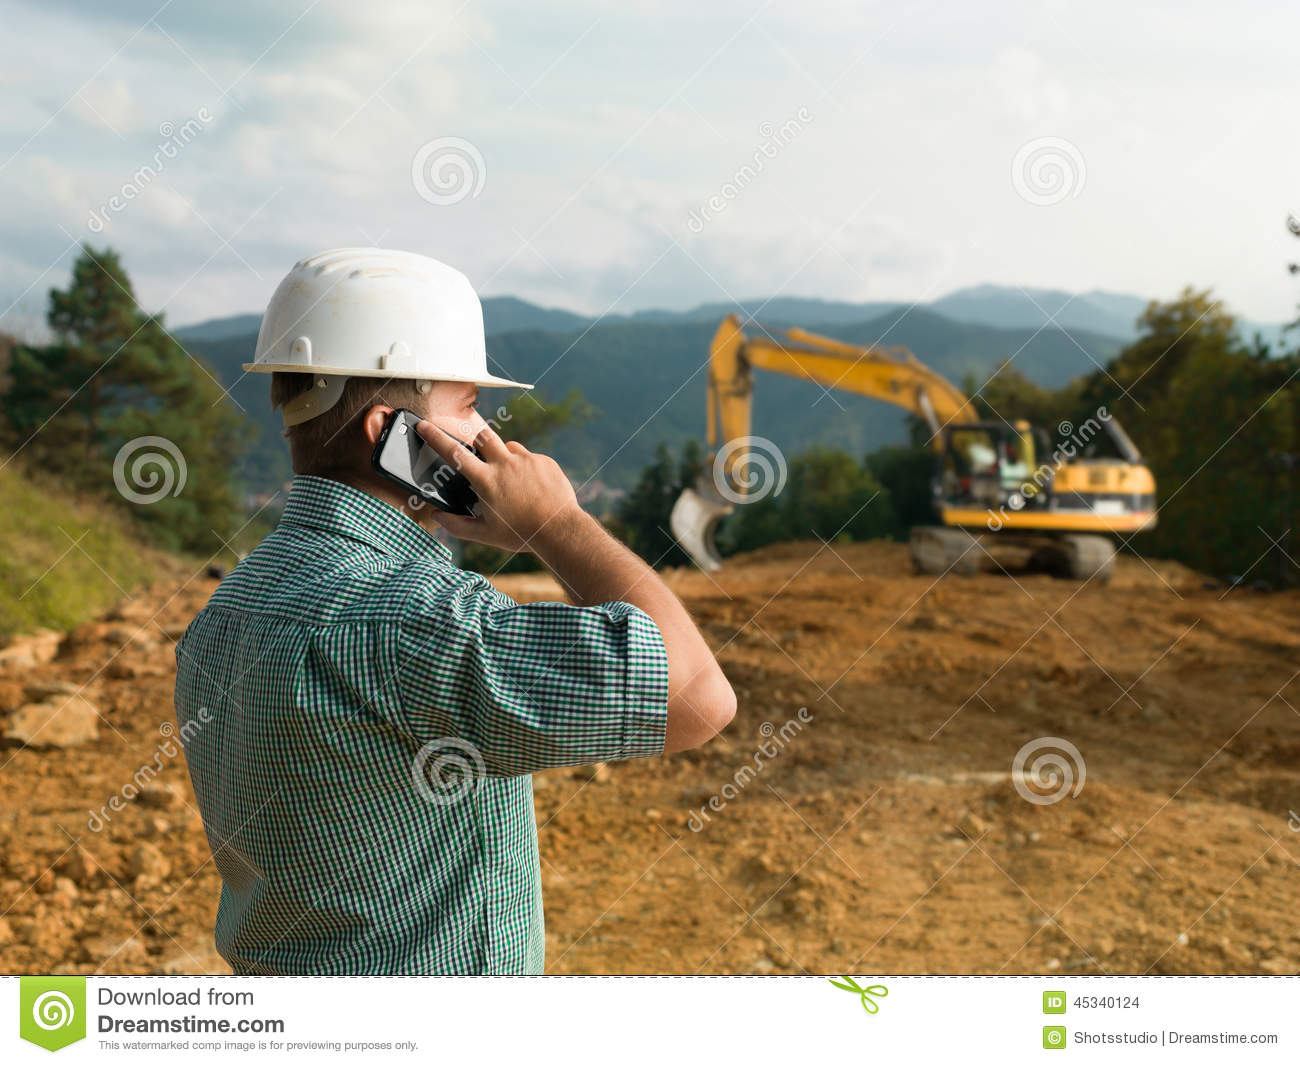phone: (374, 416, 490, 525)
